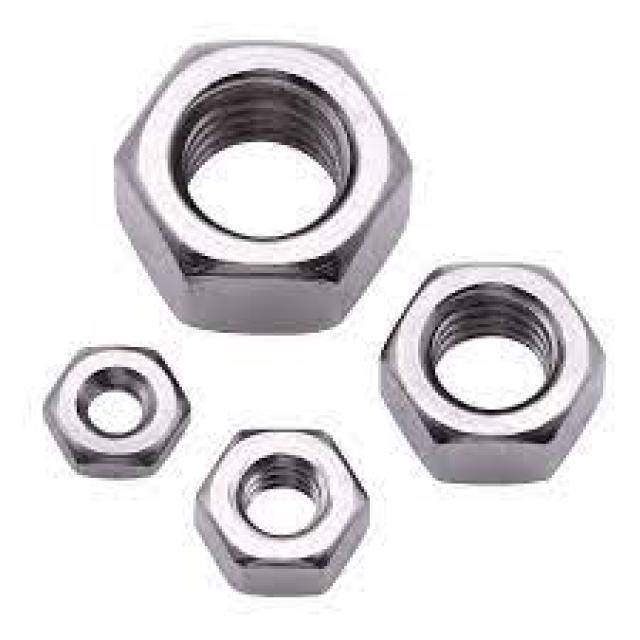Dry Waste: (118, 28, 388, 306), (404, 242, 576, 487), (36, 319, 184, 505), (209, 422, 365, 596)
